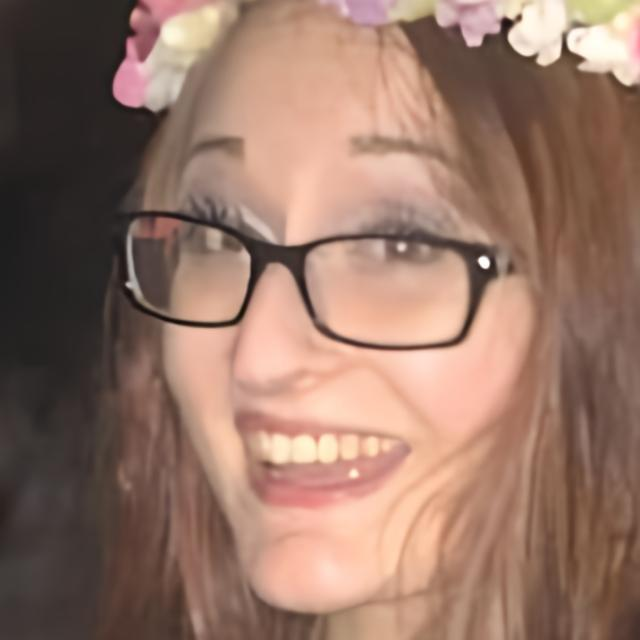happy: (158, 14, 552, 614)
